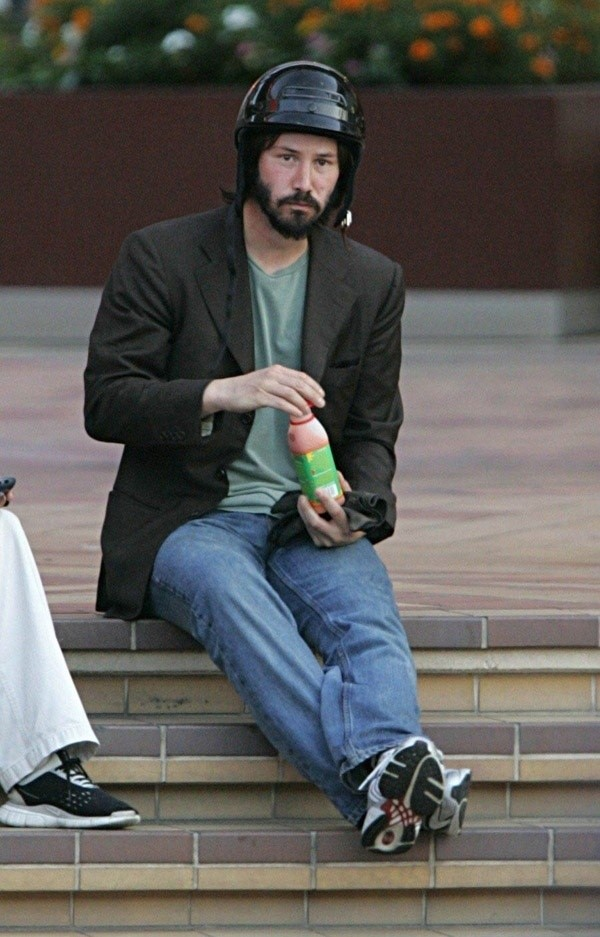face_no_mask: (248, 94, 351, 233)
